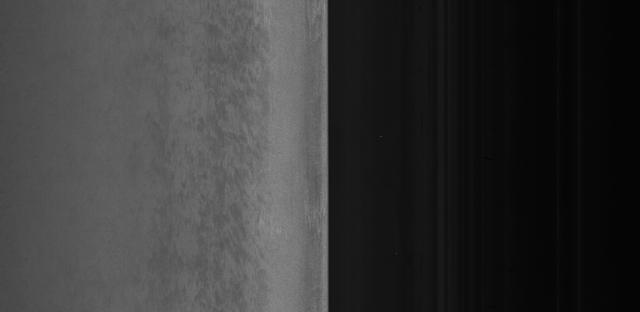silk_spot: (192, 33, 272, 286)
